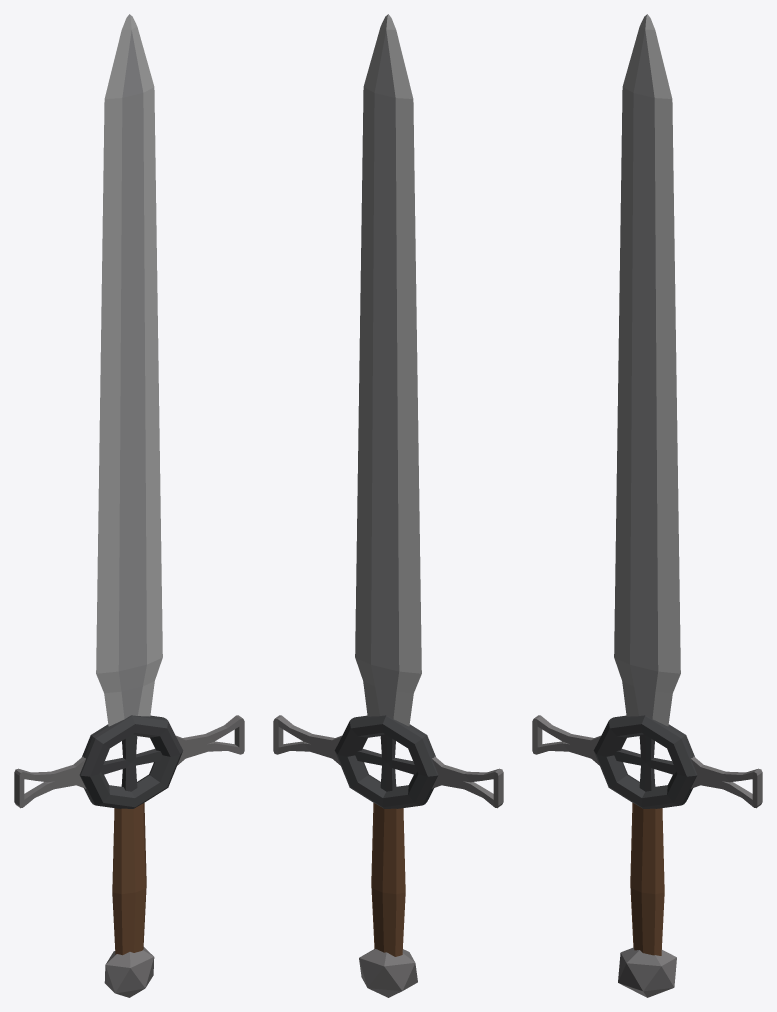
File: mesh_lowPoly_holySword.fbx
3 renders of one model, left to right at view 1: azimuth 30°, elevation 25°; view 2: azimuth 150°, elevation 25°; view 3: azimuth 330°, elevation 25°, orthographic.
Visible parts, largest first — view 1: mesh_lowPoly_holySword; view 2: mesh_lowPoly_holySword; view 3: mesh_lowPoly_holySword.
Part boxes in pixels (box(x1,y1,x2,y2)): mesh_lowPoly_holySword: box(14, 14, 244, 997); mesh_lowPoly_holySword: box(273, 14, 503, 997); mesh_lowPoly_holySword: box(532, 14, 762, 997).
Size of the model in its own units: 24.32 by 102 by 4.11.
